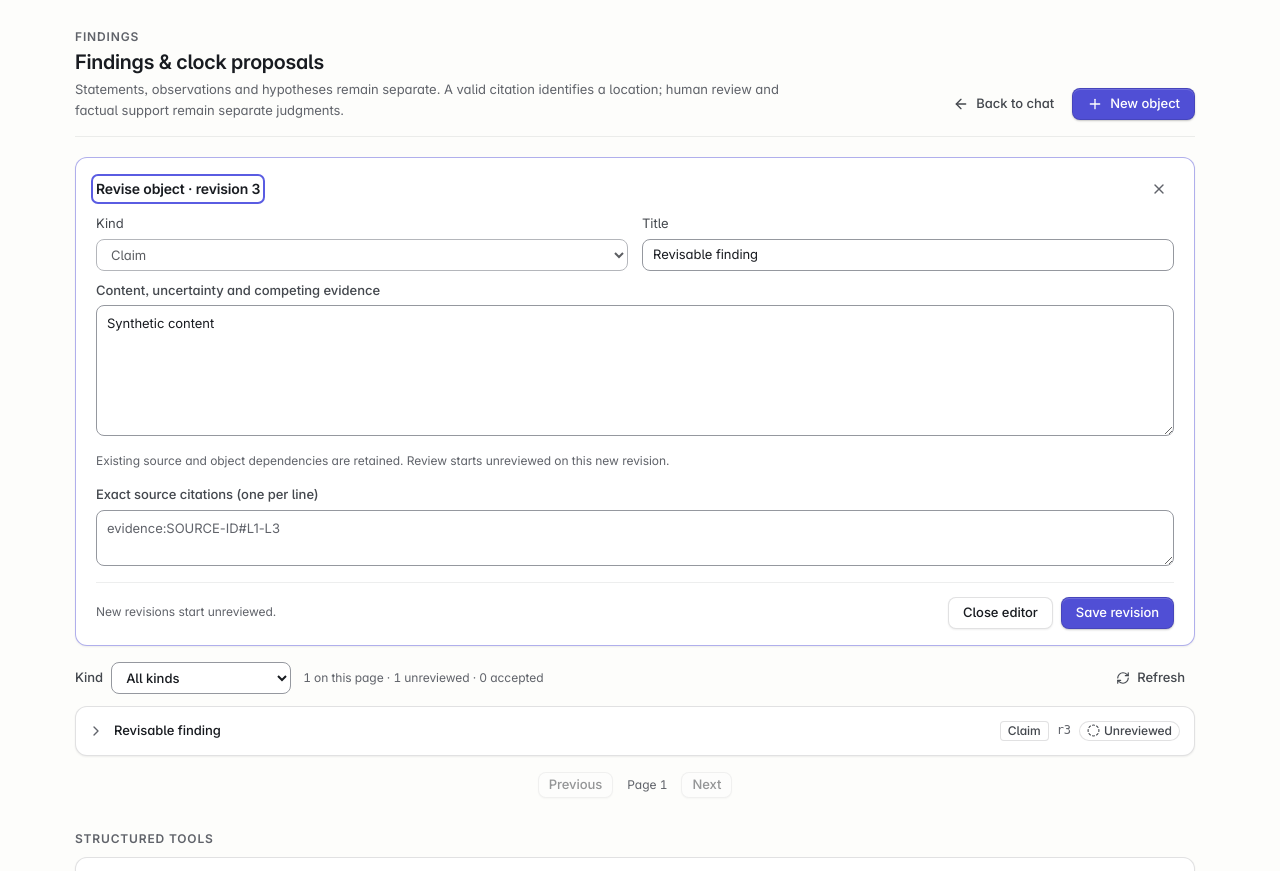
Scenario: moves focus to the editor when a finding is revised
Earlier steps of the test are not shown.
What coordinates should you click on to do the following:
click the button named "Close editor without saving"
I would click on:
 (1159, 189)
Its box is [1144, 174, 1174, 204].
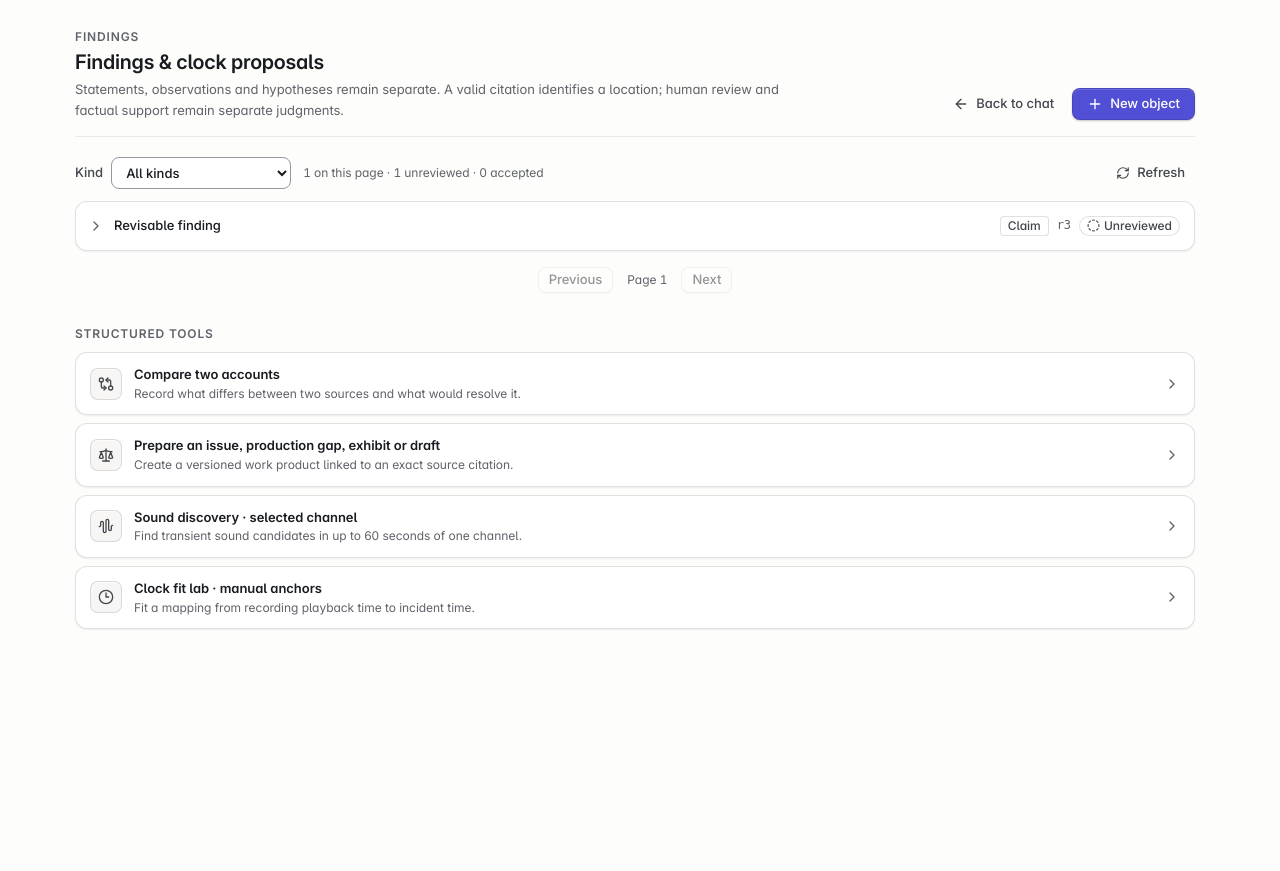
Expected: the heading "Revise object · revision 3" is gone
